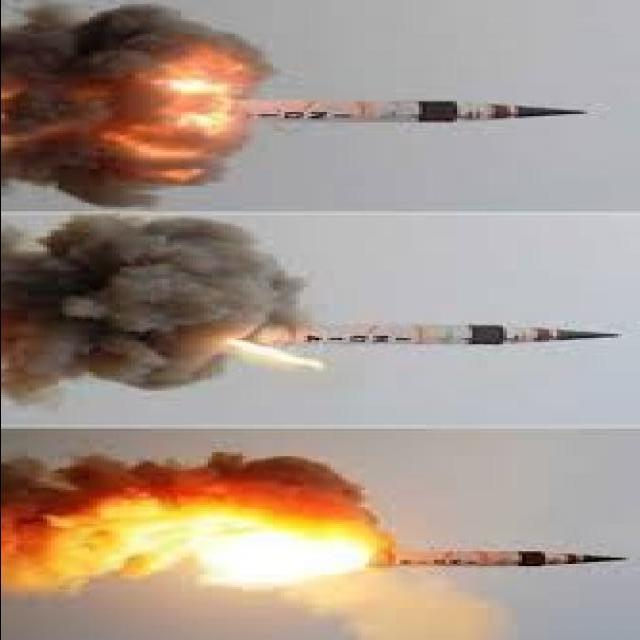Missile: (227, 95, 595, 125), (276, 322, 631, 350), (333, 546, 633, 576)
